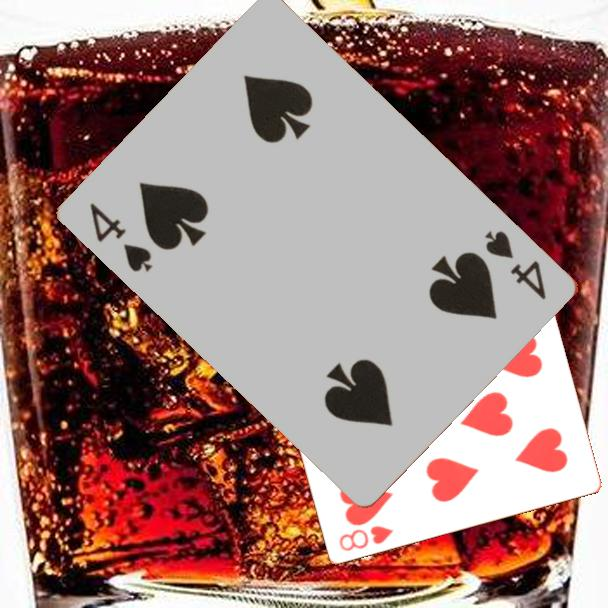h08: (335, 522, 396, 555)
s04: (87, 199, 157, 275), (481, 226, 550, 303)
